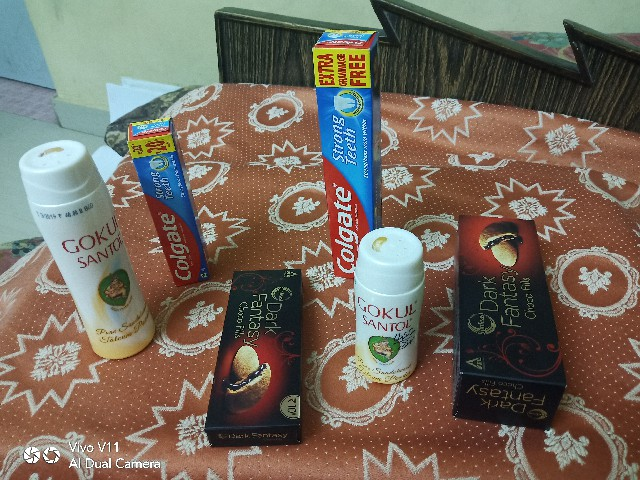colgatetoothpaste big: (303, 19, 379, 278)
colgatetoothpaste small: (128, 102, 215, 298)
darkfantasy big: (449, 206, 584, 431)
darkfantasy small: (203, 263, 312, 450)
gokulsantol big: (20, 133, 153, 394)
gokulsantol small: (349, 224, 427, 387)
